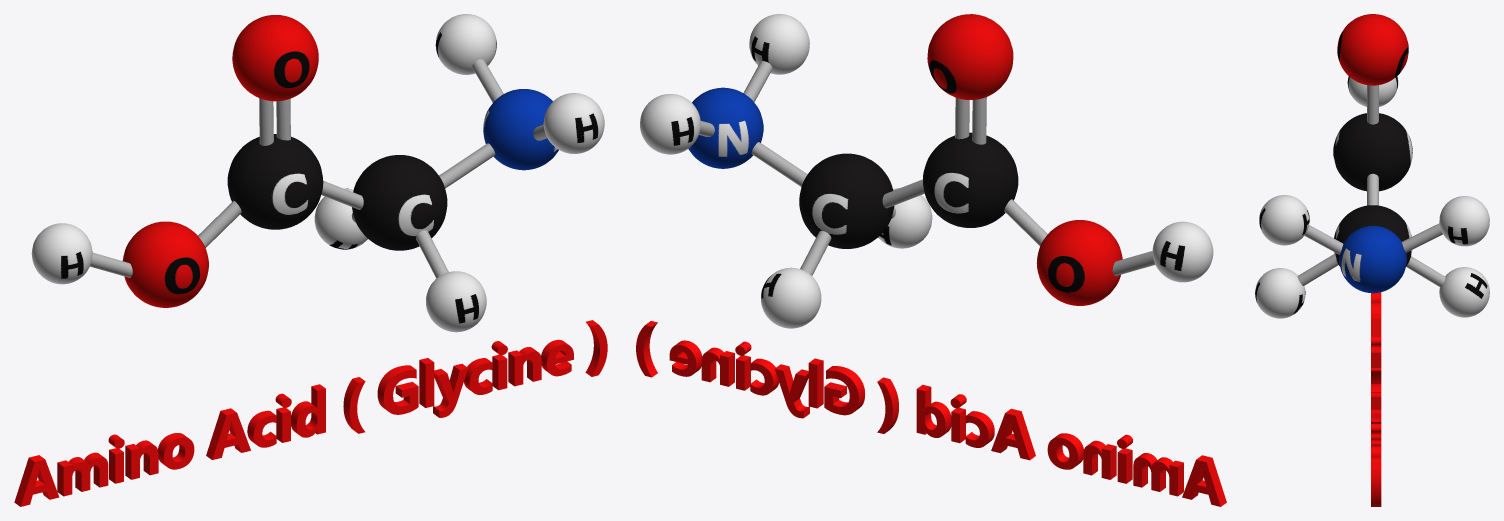
File: aminoacid.gltf
3 renders of one model, left to right at view 1: azimuth 30°, elevation 25°; view 2: azimuth 150°, elevation 25°; view 3: azimuth 270°, elevation 25°, orthographic. The views are drawn at different scales.
Visible parts, largest first — view 1: Extrude, pSphere25-Mat.2 (×2), polySurface222, polySurface211-Mat.2, polySurface214, polySurface215-Mat.2, polySurface211-Mat; view 2: pSphere25-Mat.2 (×2), Extrude, polySurface222, polySurface211-Mat.2, polySurface214, polySurface215-Mat.2; view 3: pSphere25-Mat.2 (×2), polySurface211-Mat.2, polySurface222, polySurface214, Extrude, polySurface215-Mat.2, polySurface211-Mat.
Part boxes in pixels (x1=…): Extrude: x1=14, y1=320, x2=607, y2=506; pSphere25-Mat.2 (×2): x1=227, y1=89, x2=558, y2=250; polySurface222: x1=122, y1=15, x2=318, y2=307; polySurface211-Mat.2: x1=31, y1=93, x2=604, y2=332; polySurface214: x1=90, y1=59, x2=547, y2=277; polySurface215-Mat.2: x1=435, y1=14, x2=496, y2=74; polySurface211-Mat: x1=416, y1=230, x2=448, y2=278; pSphere25-Mat.2 (×2): x1=688, y1=87, x2=1018, y2=248; Extrude: x1=636, y1=321, x2=1226, y2=506; polySurface222: x1=927, y1=14, x2=1122, y2=305; polySurface211-Mat.2: x1=749, y1=14, x2=1213, y2=328; polySurface214: x1=699, y1=61, x2=1155, y2=275; polySurface215-Mat.2: x1=640, y1=94, x2=700, y2=154; pSphere25-Mat.2 (×2): x1=1333, y1=113, x2=1412, y2=293; polySurface211-Mat.2: x1=1255, y1=76, x2=1489, y2=318; polySurface222: x1=1337, y1=14, x2=1408, y2=85; polySurface214: x1=1304, y1=85, x2=1445, y2=287; Extrude: x1=1371, y1=292, x2=1381, y2=506; polySurface215-Mat.2: x1=1439, y1=196, x2=1489, y2=246; polySurface211-Mat: x1=1297, y1=254, x2=1338, y2=285.
Bounding box in the file's own units: 12.56 × 8.96 × 5.25.
7 materials, 5 textured.
